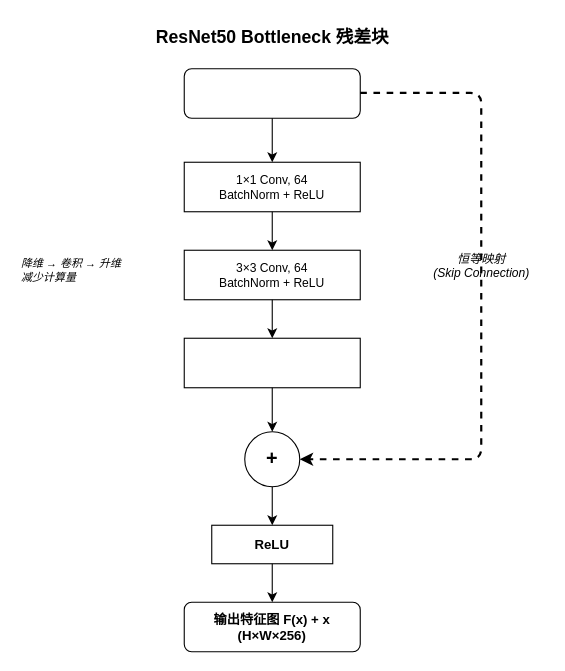
Some shapes in this 565 by 671 pixel diagram are drawn without their labels. The centre of each missing label's shape, as x and y in pixels:
"1×1 Conv, 256 BatchNorm" goes at [271,362].
"输入特征图 x (H×W×256)" goes at [271,93].
